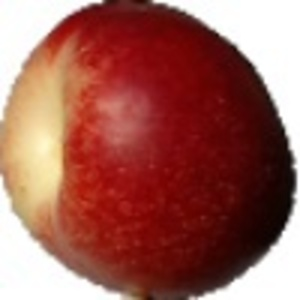nectarina: (1, 1, 297, 300)
